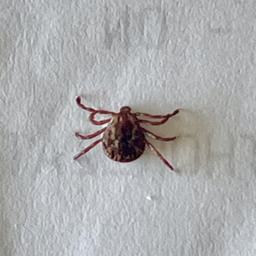Dermacentor variabilis: (73, 95, 181, 174)
